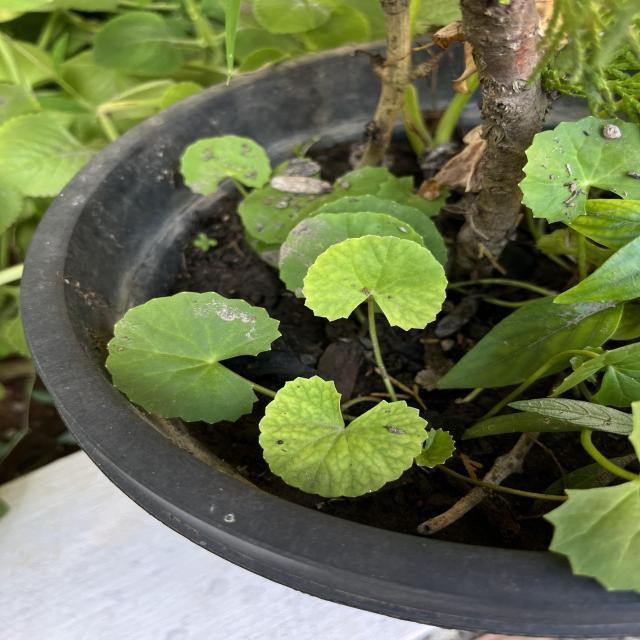Centella asiatica: (99, 288, 287, 427), (252, 372, 433, 500), (297, 232, 451, 334), (512, 109, 640, 228)
